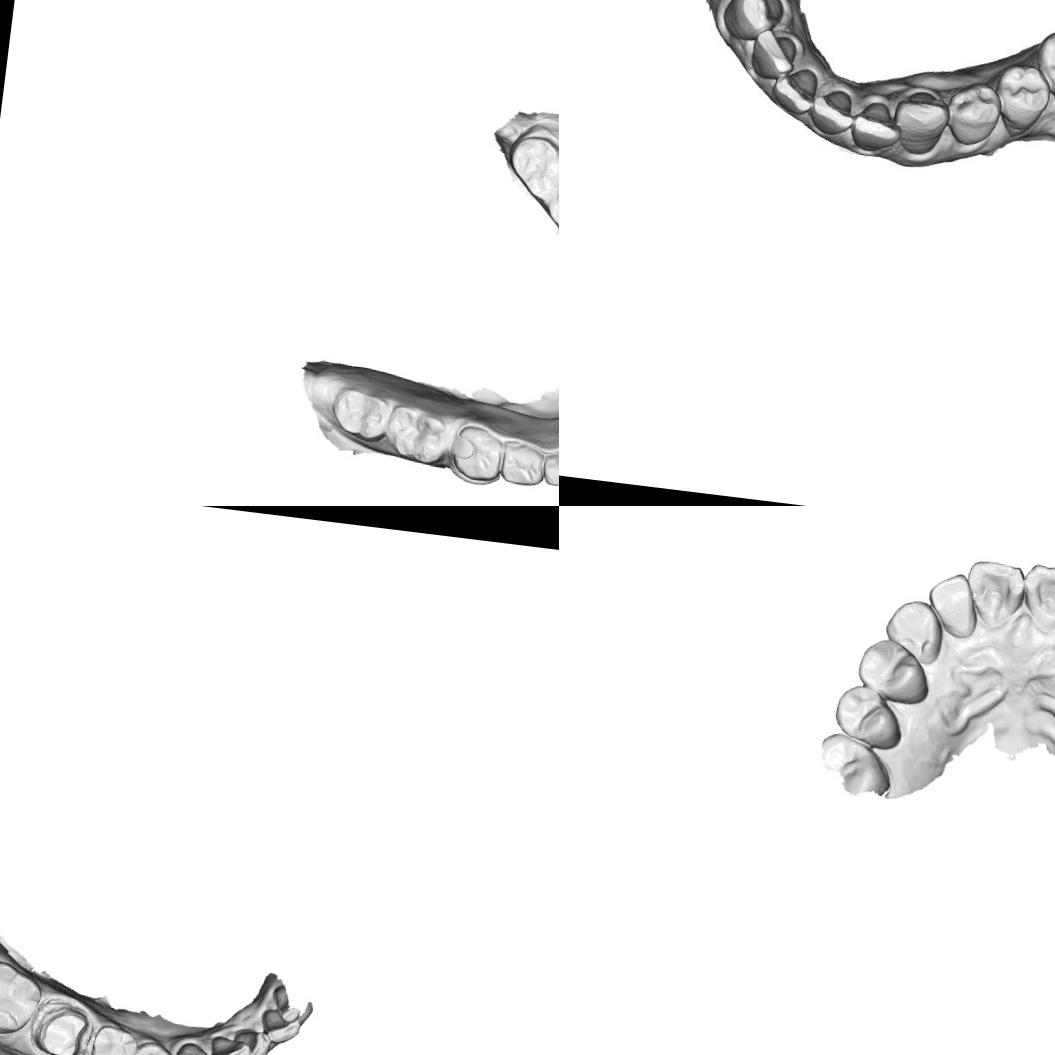canine: (888, 80, 952, 160), (881, 596, 947, 666), (722, 0, 793, 44), (166, 1038, 221, 1055), (540, 444, 559, 489)
crown: (28, 999, 93, 1055)
incisor: (962, 557, 1028, 627), (922, 569, 983, 640), (847, 102, 906, 160), (745, 24, 805, 81), (766, 64, 823, 118), (1018, 561, 1055, 631), (807, 85, 856, 137), (256, 1005, 304, 1048), (231, 1027, 270, 1055), (206, 1032, 253, 1055)
molar: (814, 730, 897, 798), (381, 402, 454, 467), (501, 127, 559, 207), (0, 955, 48, 1039), (328, 383, 393, 445), (1031, 19, 1055, 113), (542, 171, 559, 255)
premolar: (854, 636, 935, 708), (832, 682, 908, 752), (946, 81, 1004, 152), (448, 422, 509, 488), (996, 65, 1052, 127), (498, 438, 548, 488), (86, 1022, 141, 1055), (127, 1037, 177, 1055)
